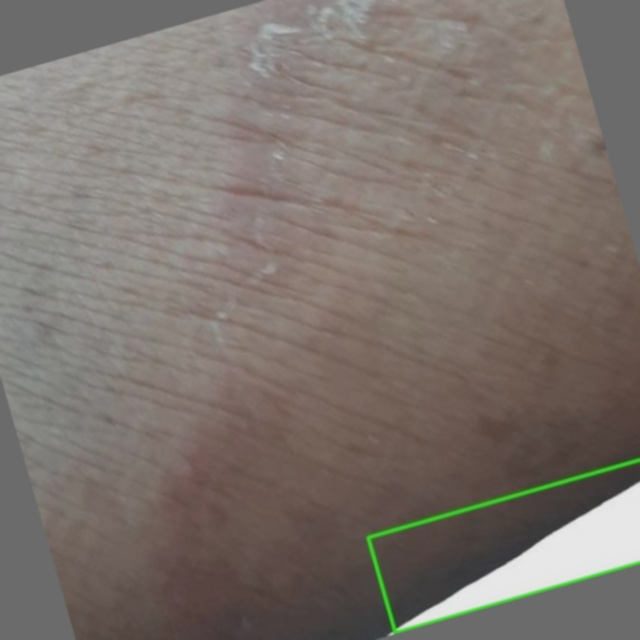Tinea Corporis: (368, 459, 639, 633)
